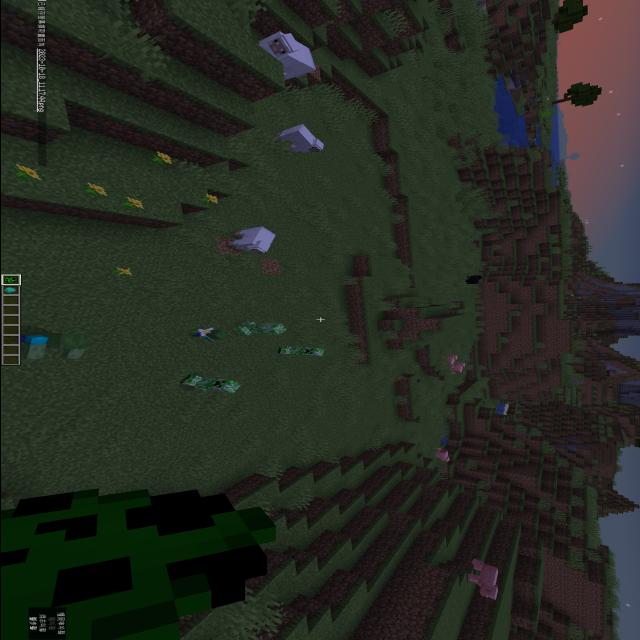Creeper: (172, 369, 250, 394), (236, 318, 291, 338), (268, 341, 326, 359)
Zombie: (20, 322, 96, 367)
pig: (458, 556, 503, 600), (427, 444, 453, 464), (440, 354, 462, 366), (448, 362, 466, 376)
